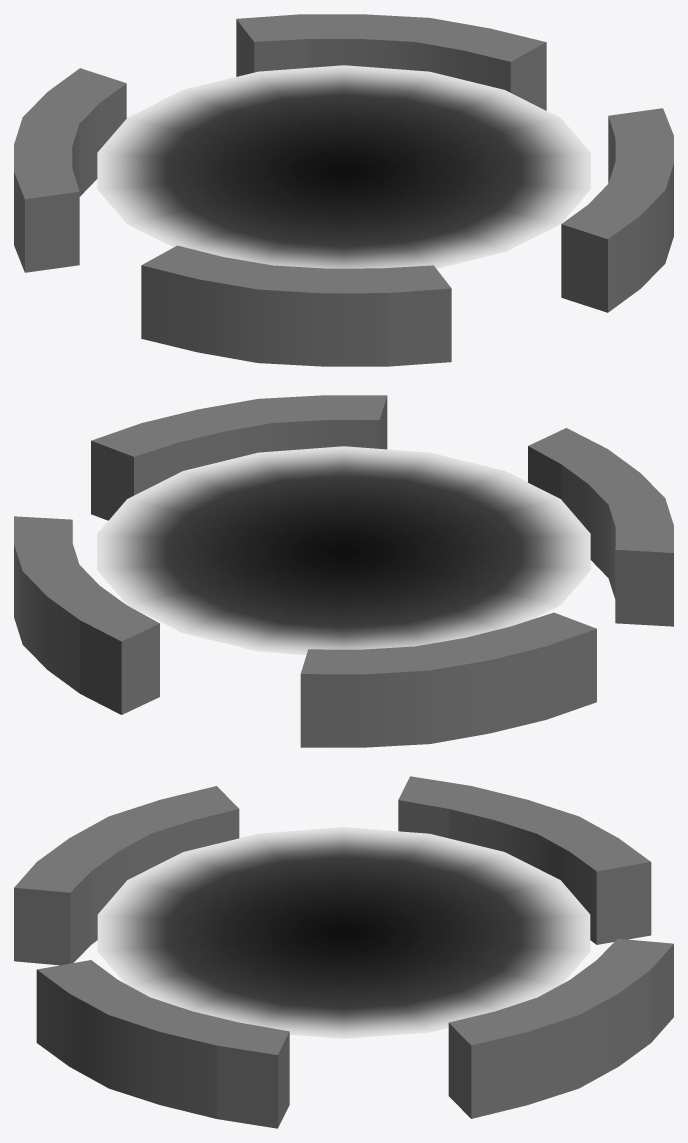
Rendered from Target_Circle_PRT.fbx.
The picture shows the model from 3 angles, top to bottom: view 1: azimuth 30°, elevation 25°; view 2: azimuth 150°, elevation 25°; view 3: azimuth 270°, elevation 25°; orthographic projection.
Parts seen in each view (by area): view 1: Gradient, AimIndicator; view 2: AimIndicator, Gradient; view 3: AimIndicator, Gradient.
Part boxes in pixels (x1=…): Gradient: x1=97, y1=65, x2=590, y2=268; AimIndicator: x1=14, y1=14, x2=673, y2=366; AimIndicator: x1=14, y1=395, x2=673, y2=747; Gradient: x1=97, y1=446, x2=590, y2=654; AimIndicator: x1=14, y1=776, x2=673, y2=1128; Gradient: x1=97, y1=827, x2=590, y2=1038.
Size of the model in its own units: 1.61 by 0.1982 by 1.61.
Materials: 2 (1 with a texture image).
